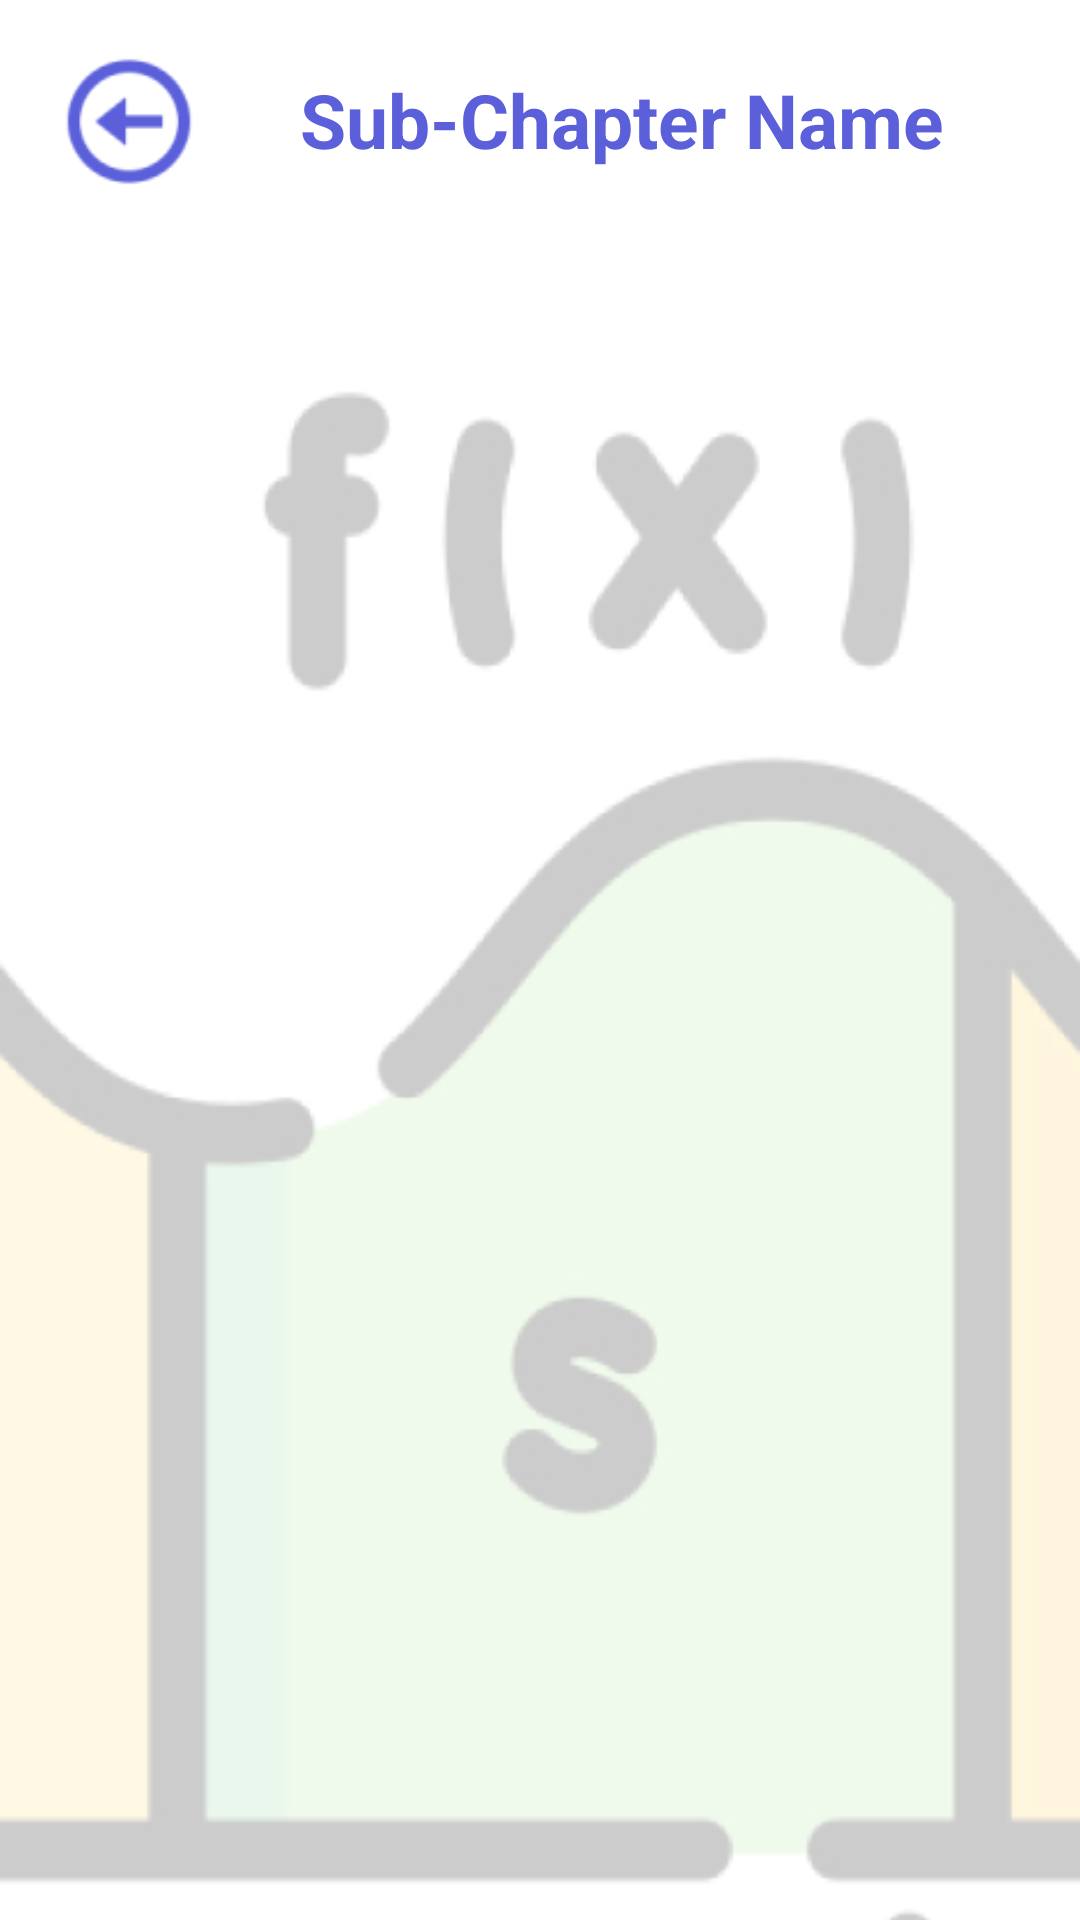

Icon click points for this 1080 × 1920 phone screenshot, format [x,y]:
back: [129,121]
